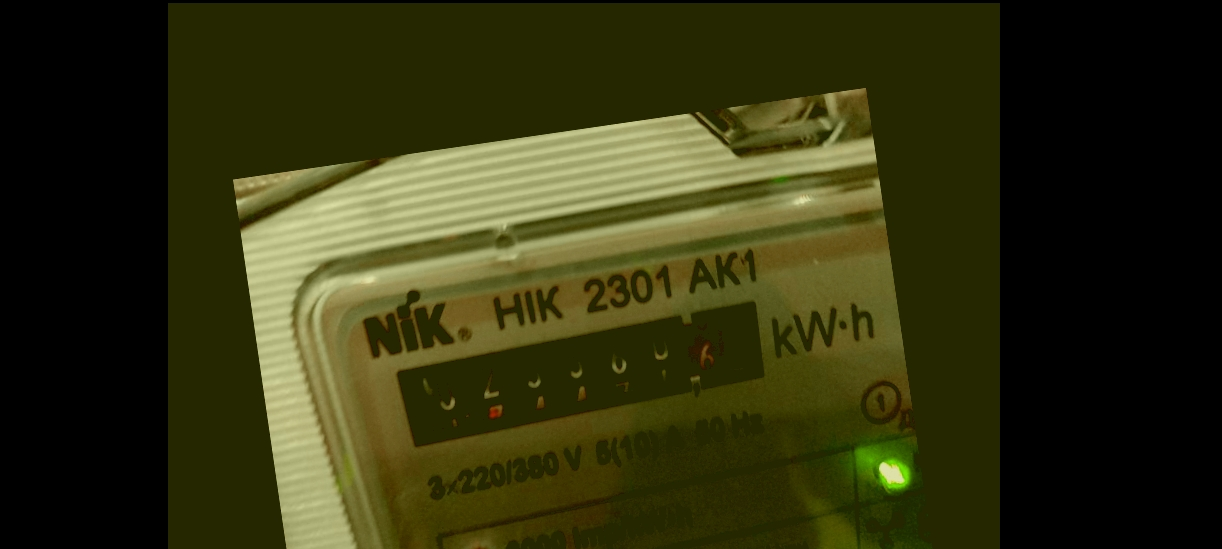0: (429, 370, 460, 415), (645, 324, 673, 364)
2: (472, 358, 504, 401)
3: (518, 350, 545, 392), (560, 342, 587, 382)
6: (601, 335, 633, 379), (694, 336, 720, 375)
screen: (370, 285, 784, 460)
